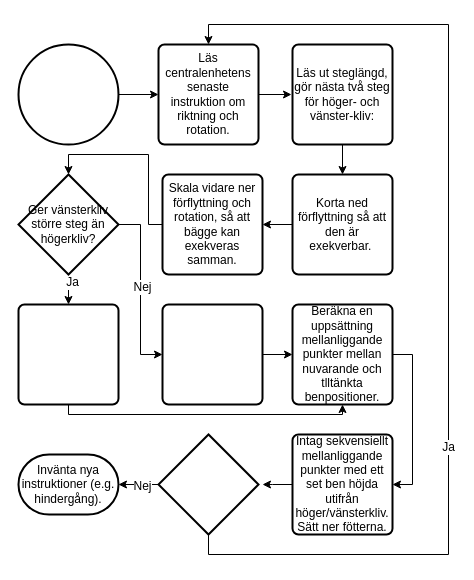
This 474x580 diagram has some shape labels left out. Here are the shapes that lost their labels. From the top down, the centre of each, then its label:
At point 68,94: "Mottag gånginstruktion från centralenheten".
At point 68,354: "Beräkna om steg med nedskalad mål och rotation, vänsterkliv.".
At point 212,354: "Beräkna om steg med nedskalad mål och rotation, högerkliv.".
At point 208,484: "Vill central-enheten f ortsätta gå?".
